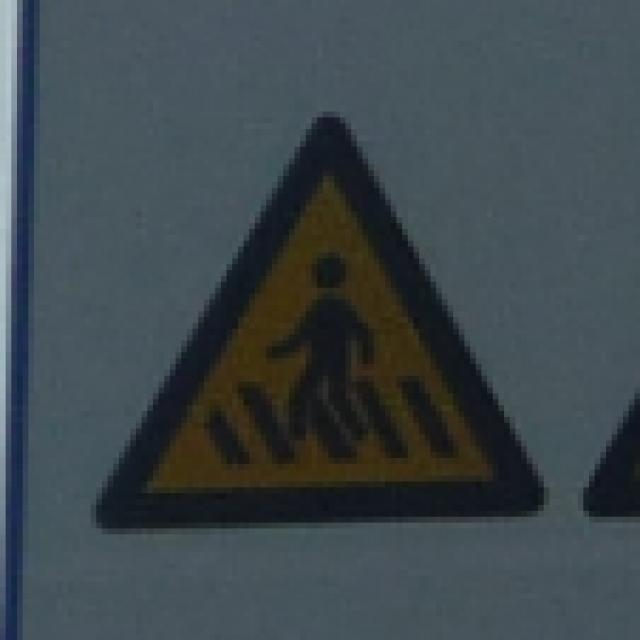Crossing: (76, 95, 568, 534)
